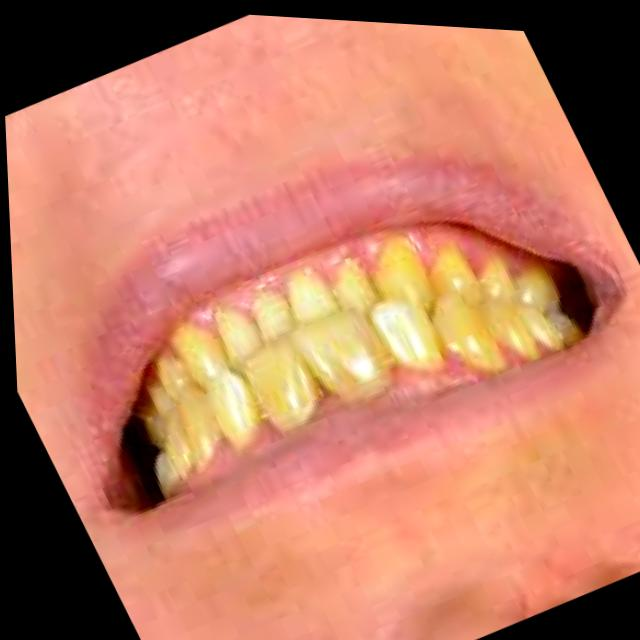tooth-discoloration: (293, 307, 390, 400), (248, 342, 321, 431), (435, 294, 508, 373), (374, 300, 445, 369), (376, 237, 435, 315), (209, 371, 262, 448), (173, 391, 223, 472), (173, 323, 228, 385), (490, 302, 542, 361), (434, 246, 480, 304), (296, 275, 318, 306)
